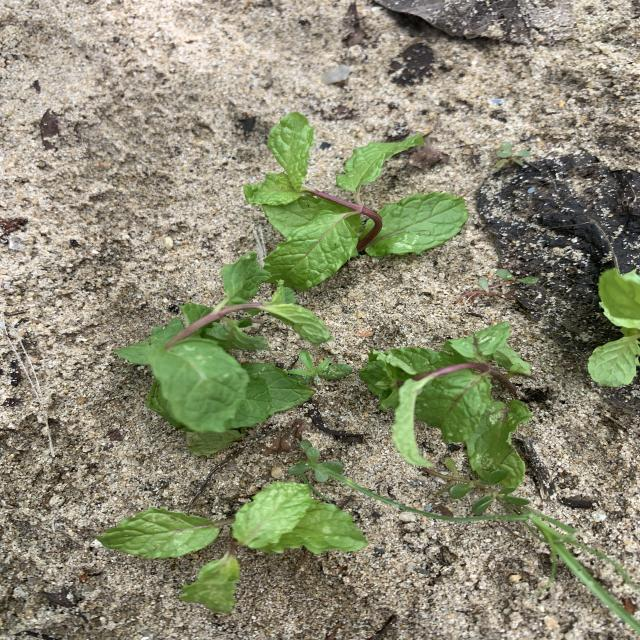crop: (116, 253, 329, 455), (244, 113, 467, 291), (96, 483, 364, 611), (360, 322, 531, 480), (589, 268, 639, 387)
weed: (342, 480, 640, 634), (422, 457, 530, 515), (455, 269, 537, 303), (289, 440, 343, 482), (288, 350, 351, 382), (495, 142, 530, 167)
